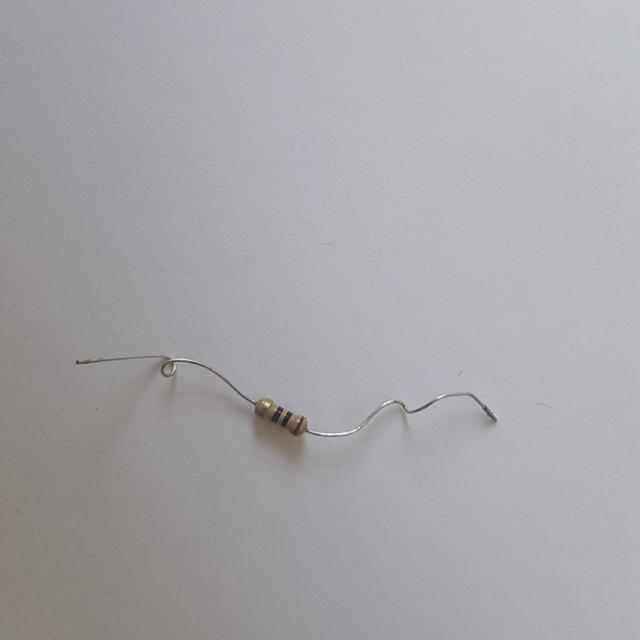black: (272, 407, 283, 422), (284, 412, 291, 425)
brown: (295, 417, 304, 433)
gold: (260, 399, 271, 415)
resistor: (241, 385, 320, 453)
